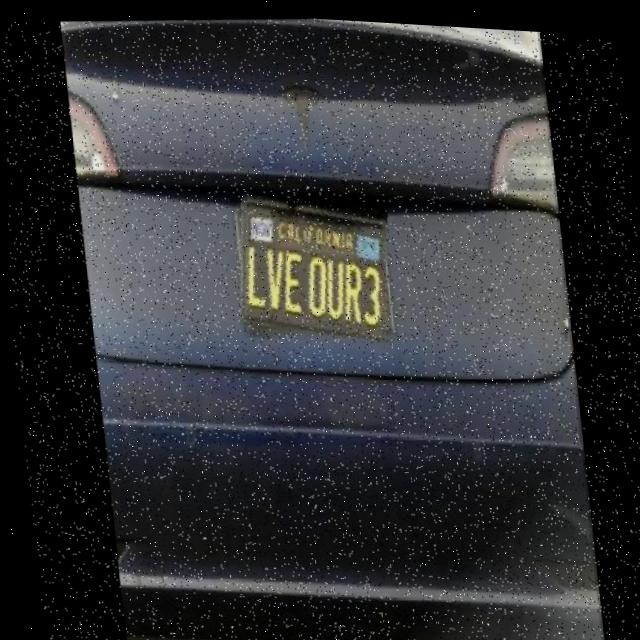LicensePlate: (228, 184, 395, 341)
